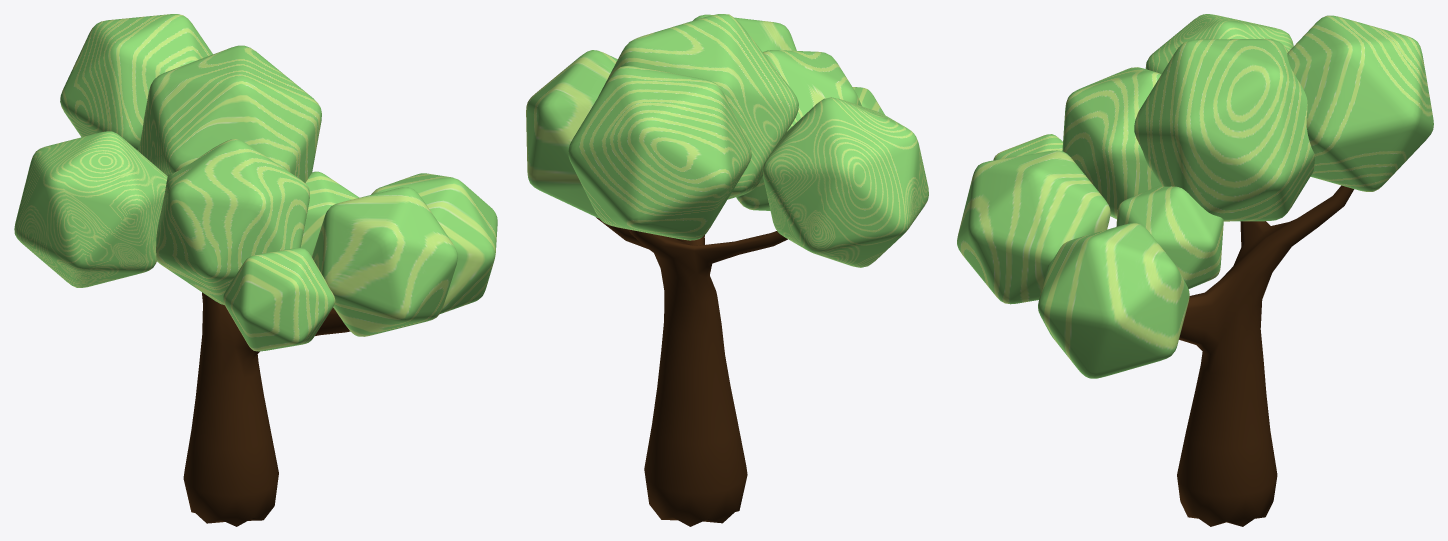
Rendered from arbol2 (1).FBX.
3 renders of one model, left to right at view 1: azimuth 30°, elevation 25°; view 2: azimuth 150°, elevation 25°; view 3: azimuth 270°, elevation 25°, orthographic. The views are drawn at different scales.
Visible parts, largest first — view 1: GeoSphere016; view 2: GeoSphere016; view 3: GeoSphere016.
Part boxes in pixels (<box>): GeoSphere016: <box>14,14,497,526</box>; GeoSphere016: <box>526,14,928,526</box>; GeoSphere016: <box>957,14,1433,526</box>.
Size of the model in its own units: 13.21 by 12.64 by 14.04.
2 materials, 1 textured.
